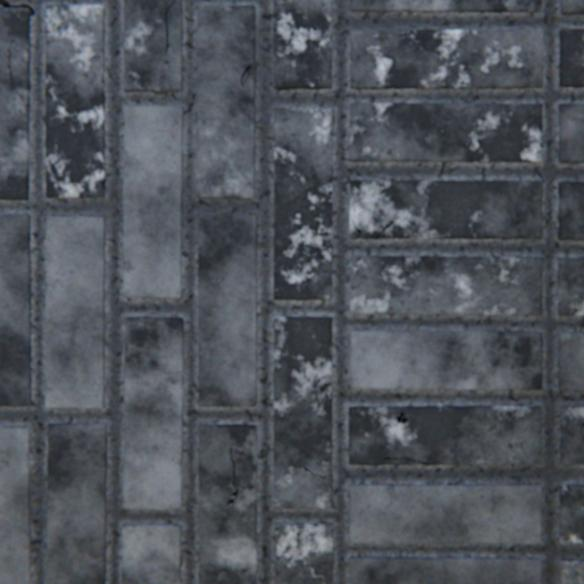brick: (124, 317, 184, 508), (46, 6, 105, 197), (350, 30, 541, 89), (349, 483, 540, 542), (350, 103, 541, 162), (350, 330, 541, 389), (348, 405, 539, 464), (47, 217, 106, 407), (124, 107, 183, 297), (197, 6, 255, 198), (274, 108, 332, 299), (350, 256, 541, 314), (199, 215, 257, 405), (350, 181, 541, 238), (274, 316, 331, 507), (48, 422, 107, 583), (199, 424, 257, 583), (0, 214, 32, 405), (0, 9, 31, 200), (349, 555, 540, 583), (125, 0, 183, 92), (274, 0, 331, 90), (0, 426, 32, 583), (123, 523, 181, 583), (275, 522, 332, 583), (350, 0, 540, 13), (557, 182, 583, 240), (557, 258, 583, 315), (557, 332, 583, 389), (558, 30, 583, 88), (558, 484, 583, 542), (558, 105, 583, 162), (559, 405, 583, 463), (559, 559, 583, 583), (559, 0, 583, 15)
crack: (165, 0, 176, 54), (0, 0, 36, 16), (228, 485, 242, 504), (241, 65, 250, 87), (294, 464, 313, 473), (351, 219, 360, 237), (406, 457, 429, 464), (394, 202, 406, 215), (231, 446, 235, 483), (9, 40, 15, 62), (397, 412, 406, 422), (9, 64, 13, 80), (315, 473, 326, 477), (383, 456, 404, 458)
